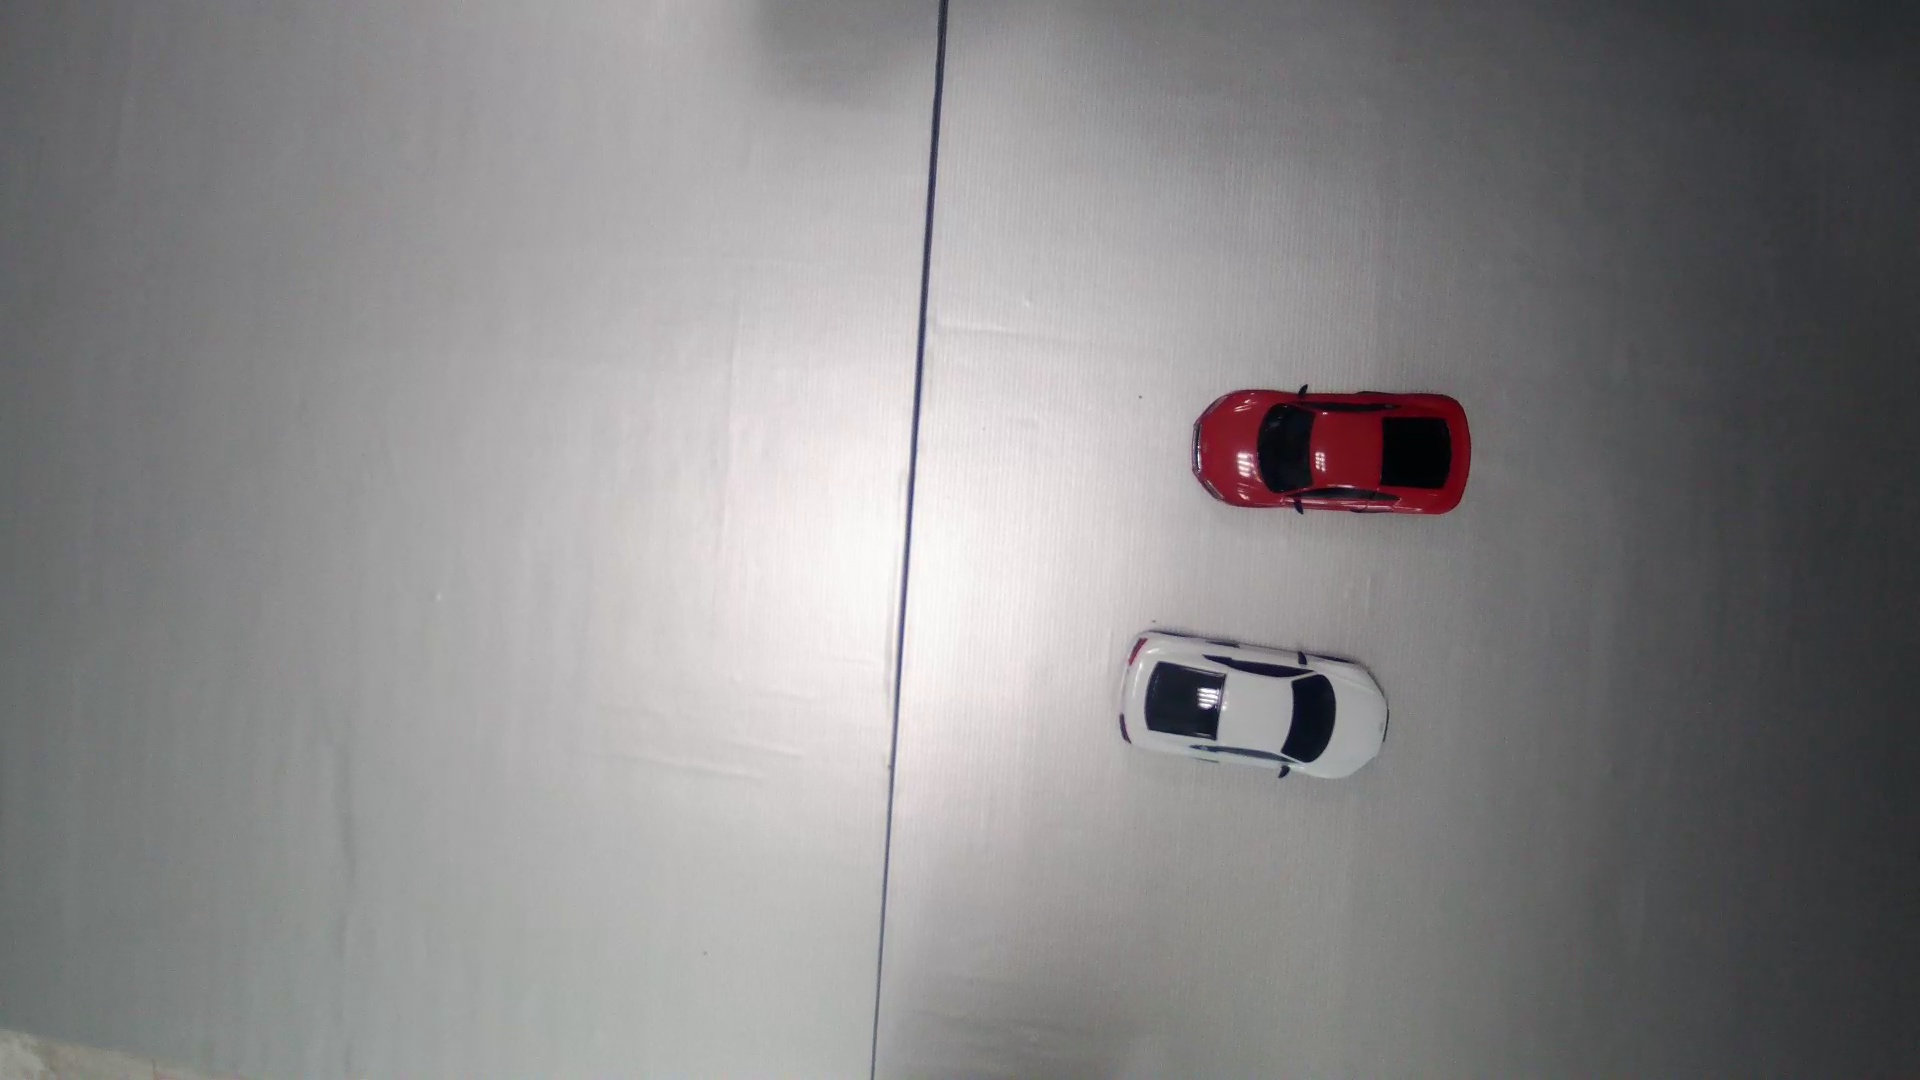remote_car: (1120, 626, 1390, 785), (1193, 378, 1473, 518)
